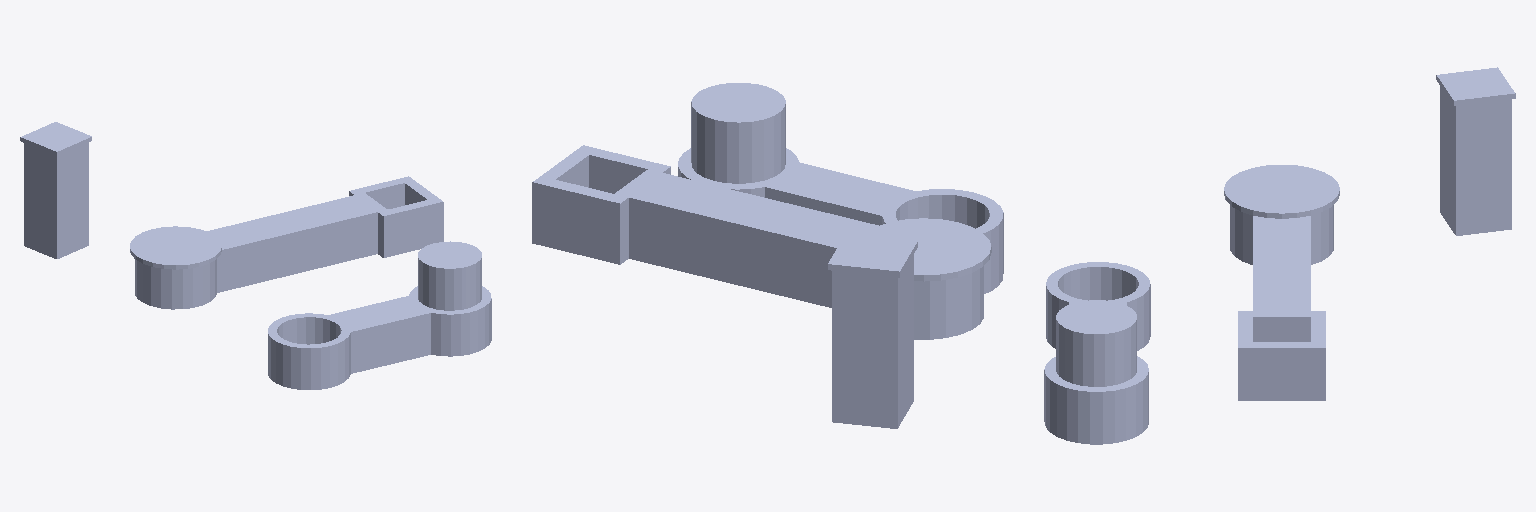
robot.urdf — my_robot:
<?xml version="1.0" encoding="utf-8"?>
<!-- This URDF was automatically created by SolidWorks to URDF Exporter! Originally created by Stephen Brawner (brawner@gmail.com) 
     Commit Version: 1.6.0-4-g7f85cfe  Build Version: 1.6.7995.38578
     For more information, please see http://wiki.ros.org/sw_urdf_exporter -->
<robot
  name="my_robot">
  <link
    name="base_link">
    <inertial>
      <origin
        xyz="6.93889390390723E-18 0 0.0904371532311637"
        rpy="0 0 0" />
      <mass
        value="6.24513231920778" />
      <inertia
        ixx="0.045813663764175"
        ixy="-1.83410298930598E-34"
        ixz="-9.63986159491796E-19"
        iyy="0.045813663764175"
        iyz="1.43970158963705E-18"
        izz="0.0340710749087118" />
    </inertial>
    <visual>
      <origin
        xyz="0 0 0"
        rpy="0 0 0" />
      <geometry>
        <mesh
          filename="package://my_robot/meshes/base_link.STL" />
      </geometry>
      <material
        name="">
        <color
          rgba="0.792156862745098 0.819607843137255 0.933333333333333 1" />
      </material>
    </visual>
    <collision>
      <origin
        xyz="0 0 0"
        rpy="0 0 0" />
      <geometry>
        <mesh
          filename="package://my_robot/meshes/base_link.STL" />
      </geometry>
    </collision>
  </link>
  <link
    name="Link01_Link">
    <inertial>
      <origin
        xyz="-0.108718719423471 0.228708834742551 0.0223525896423132"
        rpy="0 0 0" />
      <mass
        value="6.88681009624485" />
      <inertia
        ixx="0.125015182899651"
        ixy="0.0453744091696002"
        ixz="0.00639514888367059"
        iyy="0.0511312971194747"
        iyz="-0.0134533138078305"
        izz="0.140762682864953" />
    </inertial>
    <visual>
      <origin
        xyz="0 0 0"
        rpy="0 0 0" />
      <geometry>
        <mesh
          filename="package://my_robot/meshes/Link01_Link.STL" />
      </geometry>
      <material
        name="">
        <color
          rgba="0.792156862745098 0.819607843137255 0.933333333333333 1" />
      </material>
    </visual>
    <collision>
      <origin
        xyz="0 0 0"
        rpy="0 0 0" />
      <geometry>
        <mesh
          filename="package://my_robot/meshes/Link01_Link.STL" />
      </geometry>
    </collision>
  </link>
  <joint
    name="Joint01_joint"
    type="continuous">
    <origin
      xyz="0 0 0.17"
      rpy="0 0 0" />
    <parent
      link="base_link" />
    <child
      link="Link01_Link" />
    <axis
      xyz="0 0 1" />
  </joint>
  <link
    name="Link02_Link">
    <inertial>
      <origin
        xyz="-0.0525733207044835 0.166295855315663 0.00387140852064086"
        rpy="0 0 0" />
      <mass
        value="4.46317135032902" />
      <inertia
        ixx="0.0887061117835053"
        ixy="0.0237967620851692"
        ixz="-0.000908401769550144"
        iyy="0.0209028701891951"
        iyz="0.00287338610560167"
        izz="0.100921848562148" />
    </inertial>
    <visual>
      <origin
        xyz="0 0 0"
        rpy="0 0 0" />
      <geometry>
        <mesh
          filename="package://my_robot/meshes/Link02_Link.STL" />
      </geometry>
      <material
        name="">
        <color
          rgba="0.792156862745098 0.819607843137255 0.933333333333333 1" />
      </material>
    </visual>
    <collision>
      <origin
        xyz="0 0 0"
        rpy="0 0 0" />
      <geometry>
        <mesh
          filename="package://my_robot/meshes/Link02_Link.STL" />
      </geometry>
    </collision>
  </link>
  <joint
    name="joint02_joint"
    type="continuous">
    <origin
      xyz="-0.15026 0.3161 0.1"
      rpy="0 0 0" />
    <parent
      link="Link01_Link" />
    <child
      link="Link02_Link" />
    <axis
      xyz="0 0 1" />
  </joint>
  <link
    name="Link03_Link">
    <inertial>
      <origin
        xyz="3.44169137633799E-15 -4.9960036108132E-16 -0.0989984738649372"
        rpy="0 0 0" />
      <mass
        value="2.621" />
      <inertia
        ixx="0.0171776793272288"
        ixy="-8.67361737988404E-19"
        ixz="-1.59488048691292E-18"
        iyy="0.0171776793272288"
        iyz="-1.31125958736073E-18"
        izz="0.00441068333333334" />
    </inertial>
    <visual>
      <origin
        xyz="0 0 0"
        rpy="0 0 0" />
      <geometry>
        <mesh
          filename="package://my_robot/meshes/Link03_Link.STL" />
      </geometry>
      <material
        name="">
        <color
          rgba="0.792156862745098 0.819607843137255 0.933333333333333 1" />
      </material>
    </visual>
    <collision>
      <origin
        xyz="0 0 0"
        rpy="0 0 0" />
      <geometry>
        <mesh
          filename="package://my_robot/meshes/Link03_Link.STL" />
      </geometry>
    </collision>
  </link>
  <joint
    name="joint03_joint"
    type="prismatic">
    <origin
      xyz="-0.10545 0.33374 -0.05"
      rpy="-3.1416 0 1.8765" />
    <parent
      link="Link02_Link" />
    <child
      link="Link03_Link" />
    <axis
      xyz="0 0 1" />
    <limit
      lower="0"
      upper="0.130"
      effort="0"
      velocity="0" />
  </joint>
  <link
    name="End_efector_Link">
    <inertial>
      <origin
        xyz="0 0 -0.128998473864937"
        rpy="0 0 0" />
      <mass
        value="2.621" />
      <inertia
        ixx="0.0171776793272288"
        ixy="5.9557004103818E-19"
        ixz="-7.15550757496675E-19"
        iyy="0.0171776793272288"
        iyz="2.09266864430982E-18"
        izz="0.00441068333333334" />
    </inertial>
    <visual>
      <origin
        xyz="0 0 0"
        rpy="0 0 0" />
      <geometry>
        <mesh
          filename="package://my_robot/meshes/End_efector_Link.STL" />
      </geometry>
      <material
        name="">
        <color
          rgba="0.792156862745098 0.819607843137255 0.933333333333333 1" />
      </material>
    </visual>
    <collision>
      <origin
        xyz="0 0 0"
        rpy="0 0 0" />
      <geometry>
        <mesh
          filename="package://my_robot/meshes/End_efector_Link.STL" />
      </geometry>
    </collision>
  </link>
  <joint
    name="Endefector_joint"
    type="fixed">
    <origin
      xyz="0 0 0.03"
      rpy="0 0 1.8765" />
    <parent
      link="Link03_Link" />
    <child
      link="End_efector_Link" />
    <axis
      xyz="0 0 0" />
  </joint>
</robot>

--- Render facts (derived) ---
3 views of the same robot in one strip: view 1: azimuth 30°, elevation 25°; view 2: azimuth 150°, elevation 25°; view 3: azimuth 270°, elevation 25° (orthographic).
Model my_robot with 5 links and 4 joints (2 continuous, 1 prismatic, 1 fixed), rooted at base_link, posed all joints at 0.
Visible links, largest first — view 1: Link02_Link, Link01_Link, Link03_Link; view 2: Link02_Link, Link01_Link, Link03_Link; view 3: Link02_Link, Link01_Link, Link03_Link.
Boxes of the visible links, x1,y1,x2,y2 form: Link02_Link: (130, 176, 443, 309); Link01_Link: (268, 241, 491, 389); Link03_Link: (20, 122, 91, 258); Link02_Link: (532, 145, 991, 339); Link01_Link: (678, 83, 1003, 293); Link03_Link: (828, 234, 917, 428); Link02_Link: (1224, 165, 1339, 400); Link01_Link: (1044, 262, 1150, 444); Link03_Link: (1436, 67, 1515, 235).
Size in the robot's own frame: 0.7985 by 0.8104 by 0.36 metres.
3 mesh visuals loaded from 5 distinct referenced files (3 binary STL); not drawn: 2 (reference not matched to a file when rendering).
